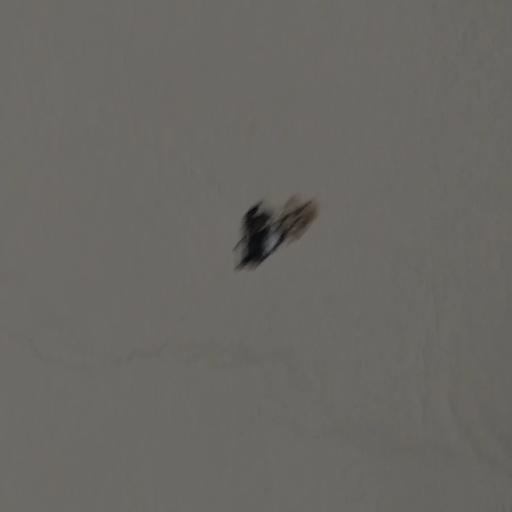stain: (224, 186, 348, 297)
